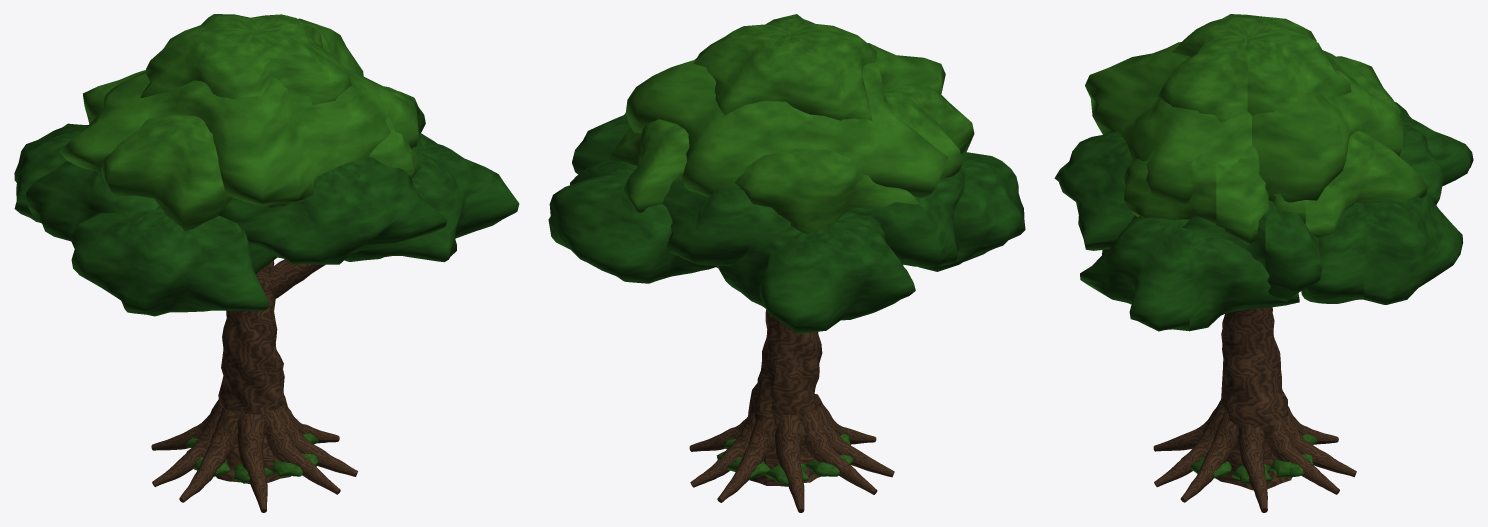
Rendered from env_sacred_world_tree_canopy.glb.
The picture shows the model from 3 angles, left to right: view 1: azimuth 30°, elevation 25°; view 2: azimuth 150°, elevation 25°; view 3: azimuth 270°, elevation 25°; orthographic projection.
Parts seen in each view (by area): view 1: upper_sunlit_canopy, lower_leaf_canopy, gnarled_buttress_roots, ancient_bark_trunk, root_hollow_moss; view 2: upper_sunlit_canopy, lower_leaf_canopy, gnarled_buttress_roots, ancient_bark_trunk, root_hollow_moss; view 3: upper_sunlit_canopy, lower_leaf_canopy, gnarled_buttress_roots, ancient_bark_trunk, root_hollow_moss.
Boxes of the visible parts, x1=… form: upper_sunlit_canopy: x1=59, y1=14, x2=420, y2=231; lower_leaf_canopy: x1=14, y1=98, x2=519, y2=316; gnarled_buttress_roots: x1=151, y1=399, x2=357, y2=512; ancient_bark_trunk: x1=216, y1=259, x2=325, y2=483; root_hollow_moss: x1=185, y1=433, x2=318, y2=483; upper_sunlit_canopy: x1=609, y1=14, x2=974, y2=234; lower_leaf_canopy: x1=548, y1=114, x2=1025, y2=333; gnarled_buttress_roots: x1=689, y1=394, x2=894, y2=512; ancient_bark_trunk: x1=716, y1=267, x2=822, y2=486; root_hollow_moss: x1=716, y1=434, x2=853, y2=485; upper_sunlit_canopy: x1=1085, y1=14, x2=1427, y2=244; lower_leaf_canopy: x1=1054, y1=102, x2=1473, y2=331; gnarled_buttress_roots: x1=1153, y1=400, x2=1356, y2=512; ancient_bark_trunk: x1=1215, y1=307, x2=1291, y2=490; root_hollow_moss: x1=1181, y1=434, x2=1317, y2=484.
Bounding box in the file's own units: 10.6 × 10.77 × 9.39.
4 materials, 4 textured.
